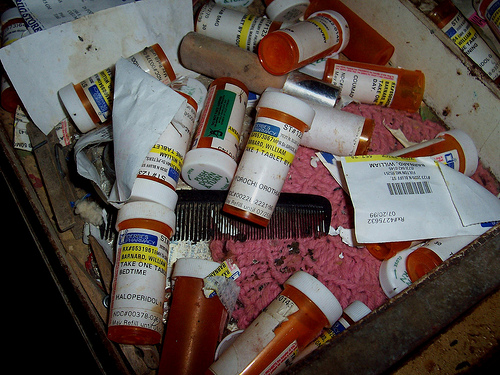pill bottle: (226, 91, 316, 227), (110, 200, 176, 345), (182, 77, 247, 192), (184, 78, 247, 193), (323, 58, 426, 115), (258, 11, 350, 68)
